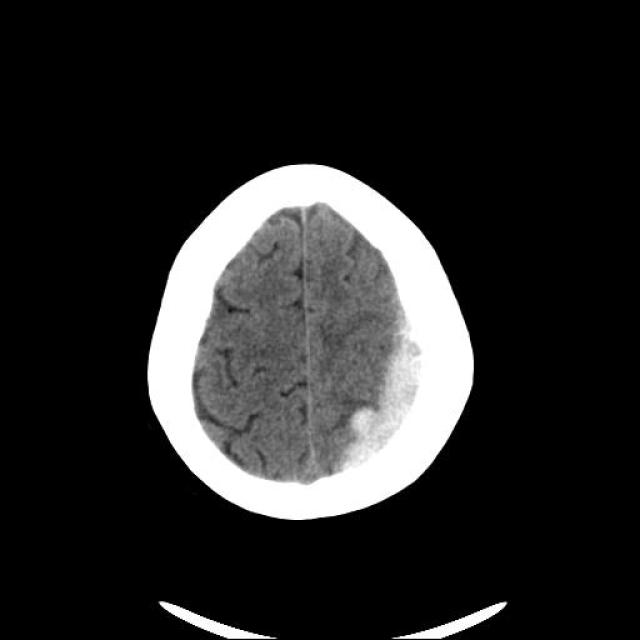Subdural: (318, 310, 452, 510)
